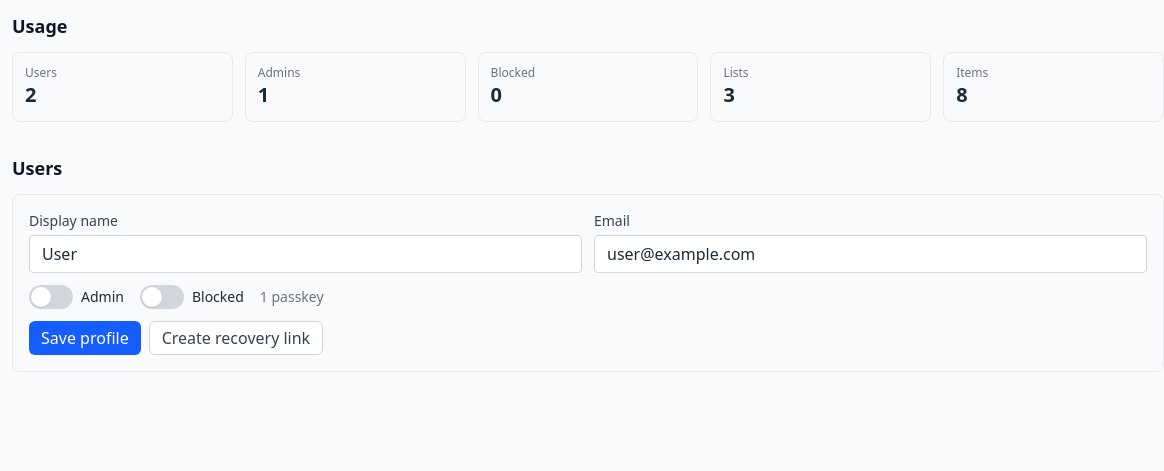
Test: admin page › shows stats and displays a generated recovery link
This screenshot has width=1164, height=471.
Check: the heading "Users" is shown, box [12, 156, 62, 180]
Check: the text "8" is shown, box [956, 81, 968, 108]
What coordinates should you click on to do the following:
click the button "Create recovery link"
I would click on:
 (236, 338)
Its box is [149, 321, 323, 355].
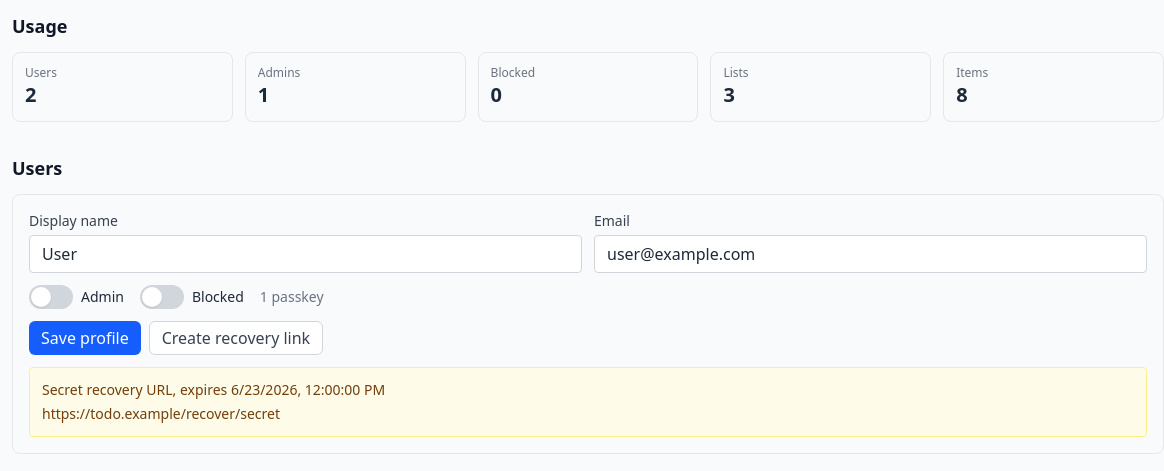
Check: the text "https://todo.example/recover/secret" is shown, box [42, 404, 280, 423]
